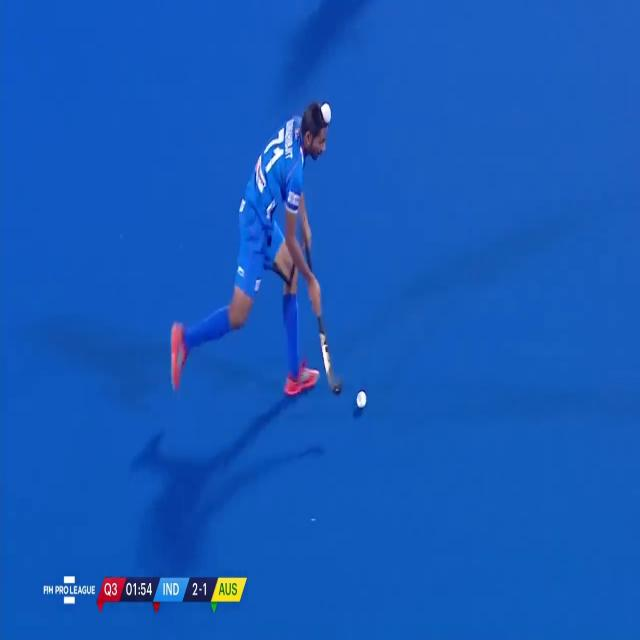ball: (348, 369, 374, 425)
